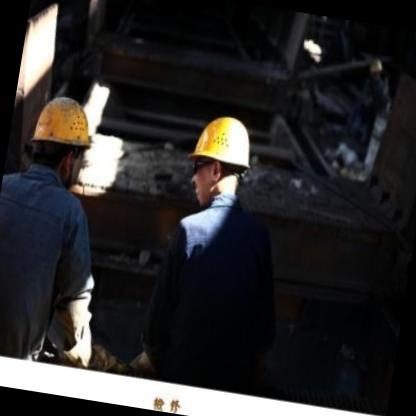helmet: (176, 101, 262, 220), (21, 84, 102, 191)
